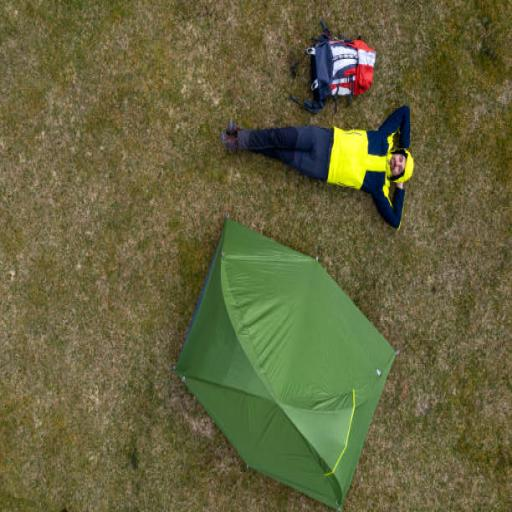tent: (166, 213, 393, 507)
